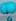Balloon: (5, 1, 16, 13)
